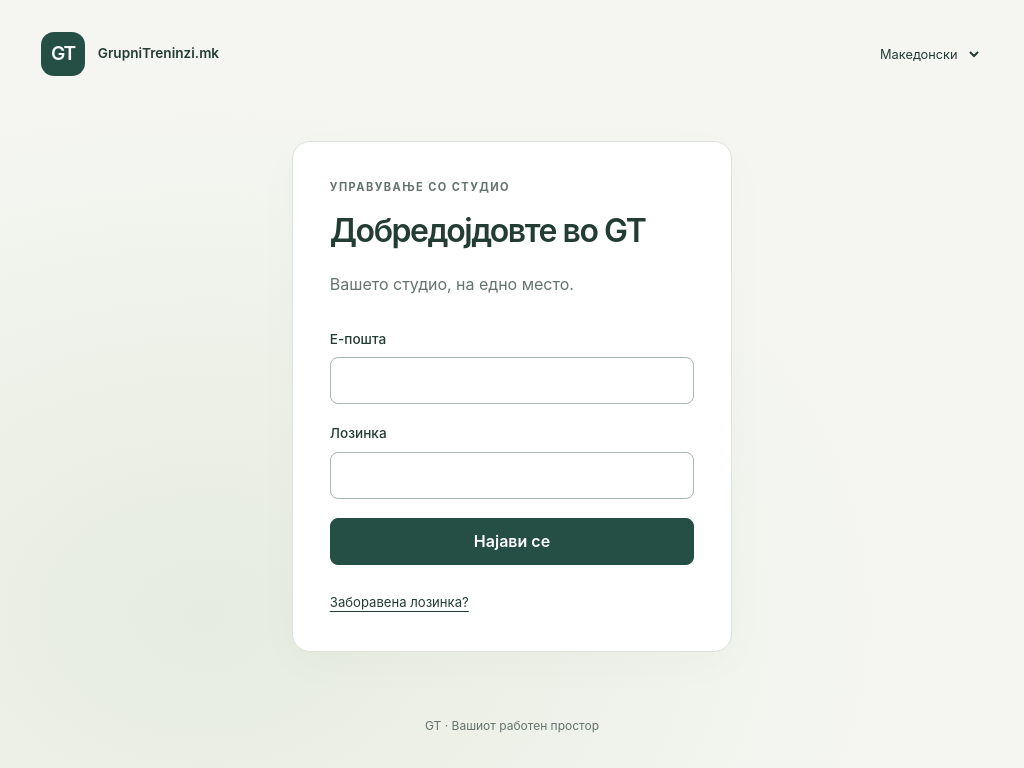
Scenario: studio foundation › renders Macedonian by default and switches language
Expected: the heading "Добредојдовте во GT" is shown, [330,212,694,251]
Select "English" in the dropdown named "Јазик" at (925, 54), box [867,36,983,72]
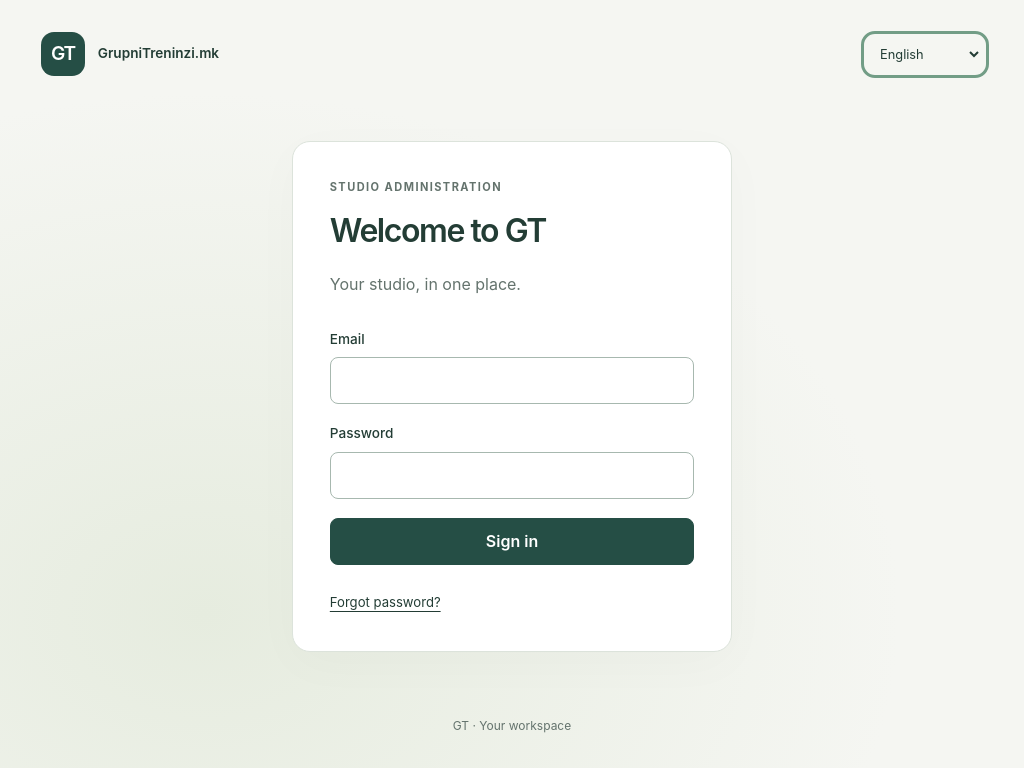
Expected: the heading "Welcome to GT" is shown, [330,211,546,250]
